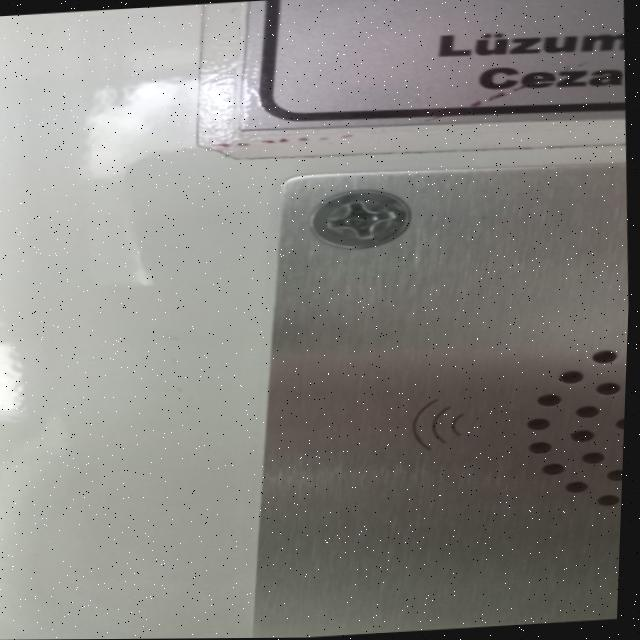Phillips: (307, 193, 415, 250)
